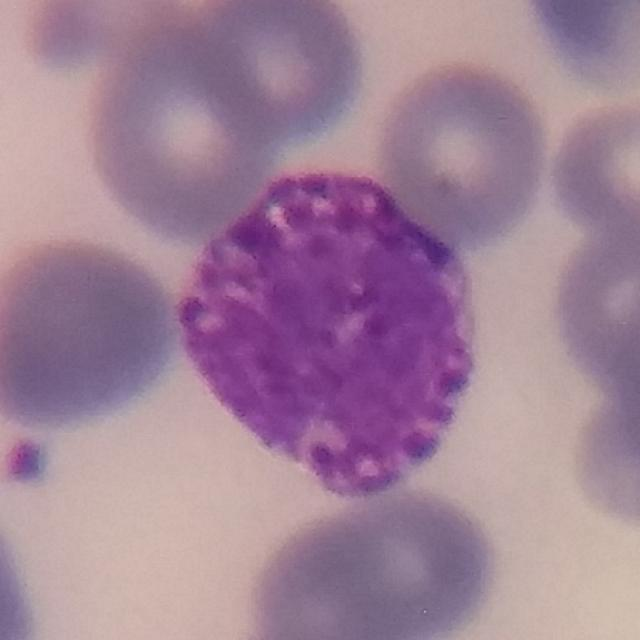baso: (170, 164, 489, 506)
